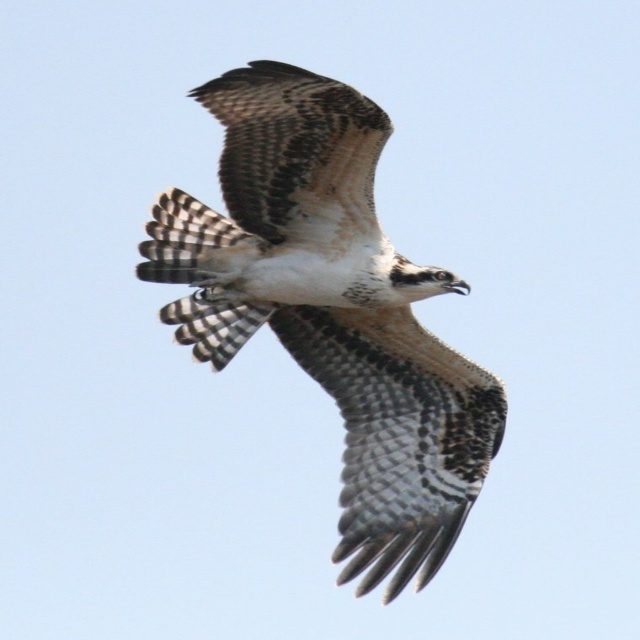Eagle: (130, 53, 514, 602)
